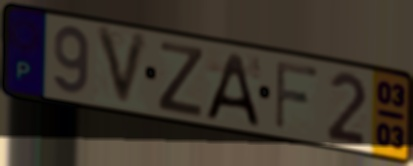2: (325, 69, 370, 149)
9: (51, 23, 92, 98)
A: (202, 51, 262, 129)
F: (273, 58, 321, 133)
V: (93, 24, 153, 112)
Z: (155, 39, 206, 120)
